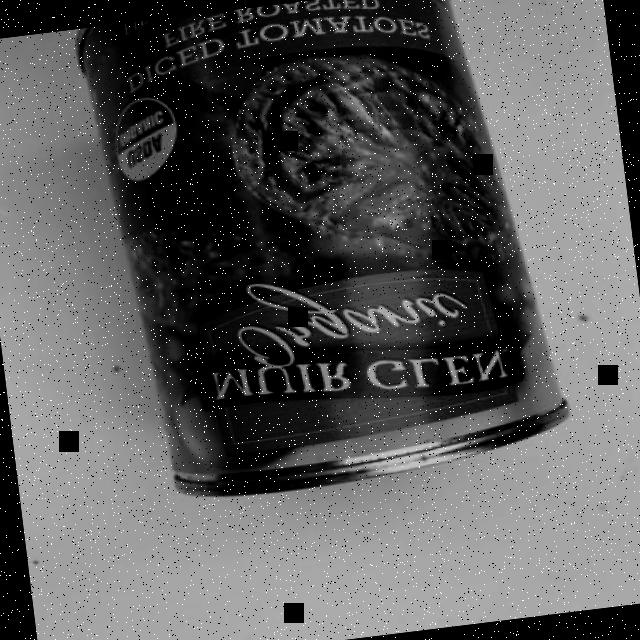can: (62, 0, 582, 512)
